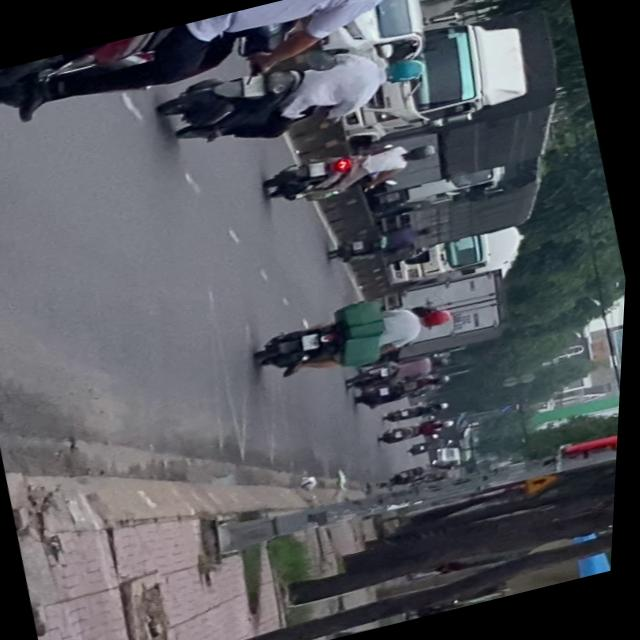helmet: (379, 52, 429, 86)
licenseplate: (0, 0, 514, 147), (151, 26, 436, 162)
nohelmet: (241, 74, 266, 98)
